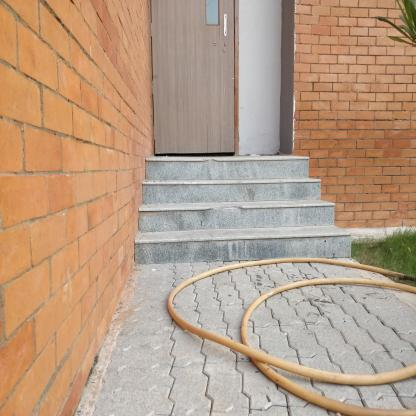stairs: (152, 178, 317, 274)
